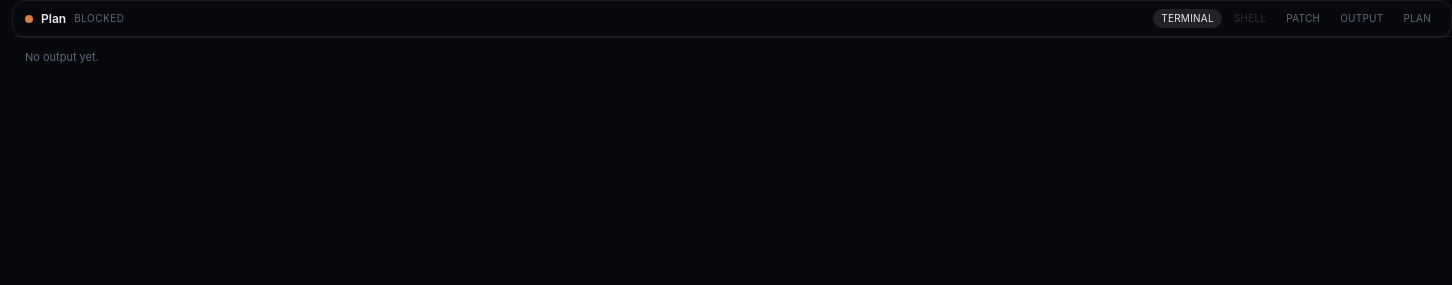
Test: RunTerminal — shell tab gating › renders Plan context requests as user-friendly questions
This screenshot has width=1452, height=285.
Click the button "plan" at (1417, 18), box x1=1396 y1=9 x2=1439 y2=28
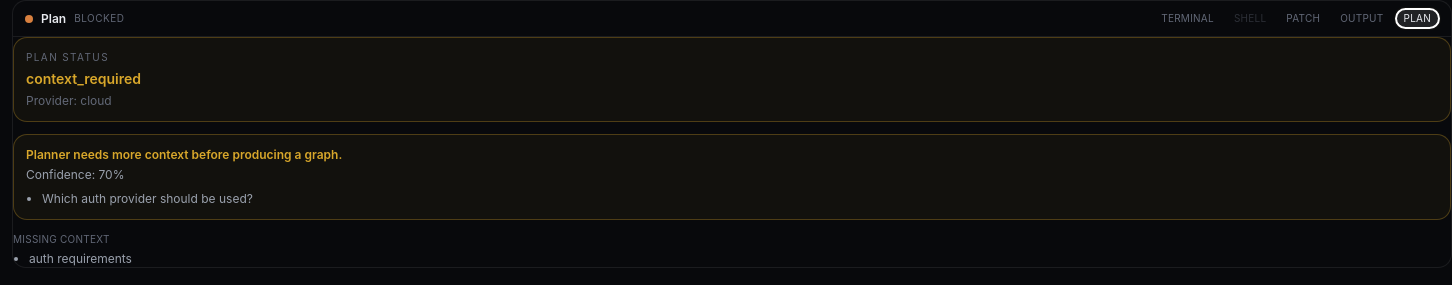
Now the text "Planner needs more context before producing a graph." is shown, box x1=26 y1=147 x2=342 y2=162
Now the list item "Which auth provider should be used?" is shown, box x1=42 y1=191 x2=253 y2=206
Now the list item "auth requirements" is shown, box x1=29 y1=251 x2=132 y2=266
